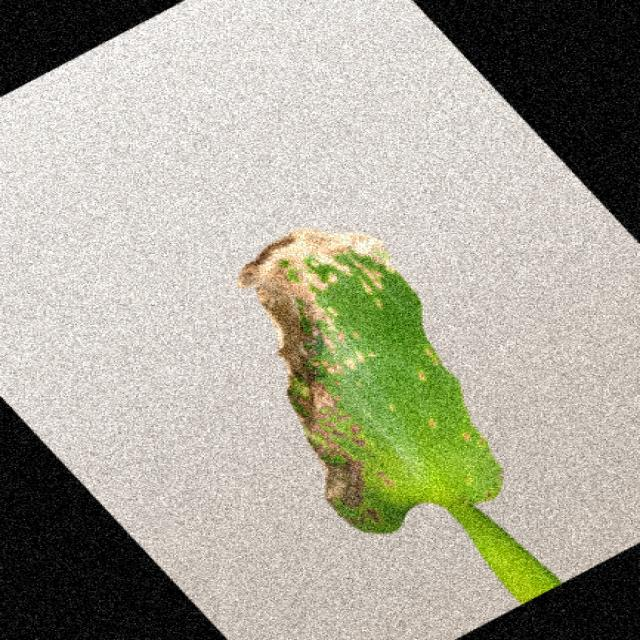daun berpenyakit bercak: (238, 230, 560, 602)
